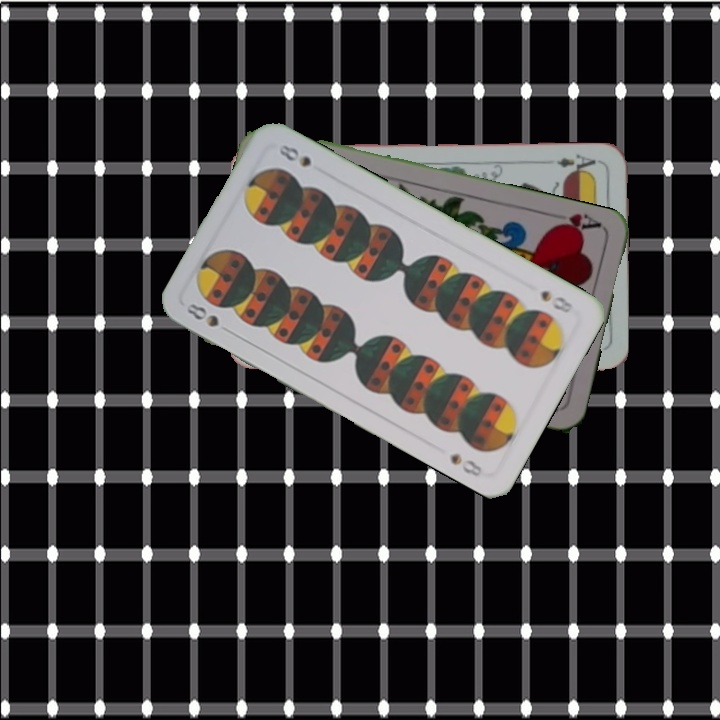EA: (553, 150, 598, 176)
HA: (548, 209, 605, 237)
S8: (182, 299, 237, 335), (536, 286, 576, 316)
